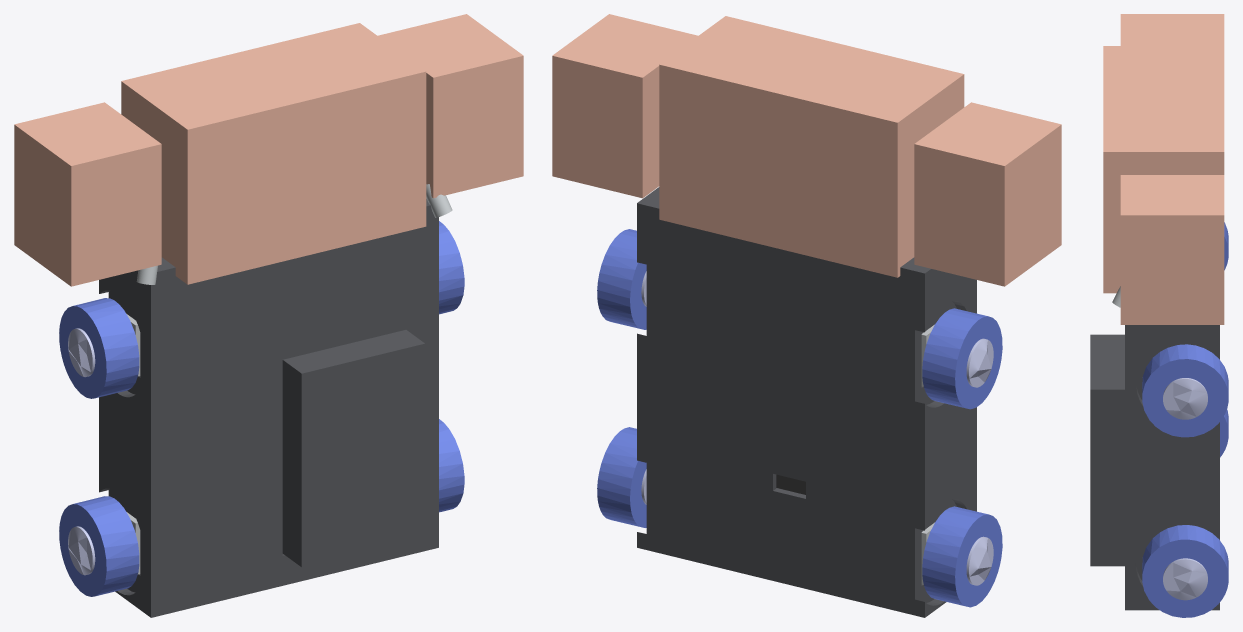
Rendered from the_underminer.glb.
3 renders of one model, left to right at view 1: azimuth 30°, elevation 25°; view 2: azimuth 150°, elevation 25°; view 3: azimuth 270°, elevation 25°, orthographic. The views are drawn at different scales.
Parts seen in each view (by area): view 1: chassis, scoop, lid, pod_r, pod_l, wheel_r0, wheel_r1, wheel_l0, wheel_l1, dt_hub_wheel_r0, dt_hub_wheel_r1; view 2: chassis, scoop, pod_r, pod_l, wheel_r0, wheel_r1, wheel_l0, wheel_l1, dt_hub_wheel_r1, dt_hub_wheel_r0; view 3: scoop, pod_l, chassis, lid, wheel_l1, wheel_l0, pod_r, dt_hub_wheel_l0, dt_hub_wheel_l1, wheel_r0.
Part boxes in pixels (x1=…): chassis: x1=99, y1=198, x2=438, y2=617; scoop: x1=121, y1=23, x2=426, y2=284; lid: x1=282, y1=330, x2=425, y2=567; pod_r: x1=14, y1=102, x2=161, y2=286; pod_l: x1=378, y1=14, x2=523, y2=198; wheel_r0: x1=59, y1=496, x2=139, y2=596; wheel_r1: x1=59, y1=298, x2=139, y2=398; wheel_l0: x1=439, y1=419, x2=464, y2=512; wheel_l1: x1=439, y1=221, x2=464, y2=314; dt_hub_wheel_r0: x1=68, y1=526, x2=95, y2=575; dt_hub_wheel_r1: x1=68, y1=328, x2=95, y2=377; chassis: x1=637, y1=187, x2=976, y2=617; scoop: x1=659, y1=16, x2=964, y2=277; pod_r: x1=914, y1=102, x2=1061, y2=286; pod_l: x1=552, y1=14, x2=697, y2=198; wheel_r0: x1=922, y1=506, x2=1002, y2=607; wheel_r1: x1=922, y1=308, x2=1002, y2=409; wheel_l0: x1=597, y1=427, x2=646, y2=527; wheel_l1: x1=597, y1=229, x2=646, y2=329; dt_hub_wheel_r1: x1=966, y1=338, x2=993, y2=387; dt_hub_wheel_r0: x1=966, y1=536, x2=993, y2=585; scoop: x1=1103, y1=46, x2=1224, y2=293; pod_l: x1=1120, y1=175, x2=1224, y2=324; chassis: x1=1125, y1=325, x2=1219, y2=610; lid: x1=1090, y1=334, x2=1124, y2=566; wheel_l1: x1=1142, y1=344, x2=1228, y2=437; wheel_l0: x1=1142, y1=525, x2=1228, y2=617; pod_r: x1=1120, y1=14, x2=1224, y2=45; dt_hub_wheel_l0: x1=1163, y1=558, x2=1207, y2=600; dt_hub_wheel_l1: x1=1163, y1=378, x2=1207, y2=419; wheel_r0: x1=1220, y1=409, x2=1228, y2=457.
Bounding box in the file's own units: 110 × 114 × 31.99.
